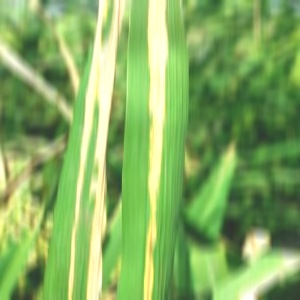Leaf_Blast: (51, 2, 127, 294), (120, 1, 191, 297)
